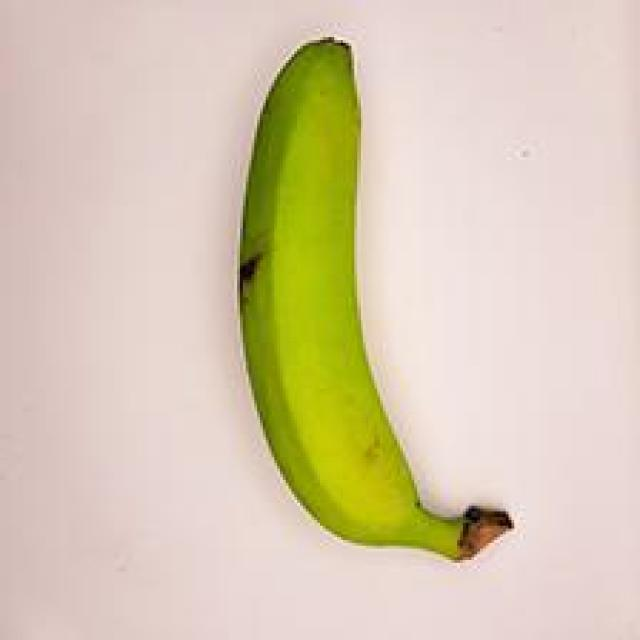Unripe: (170, 11, 537, 606)
